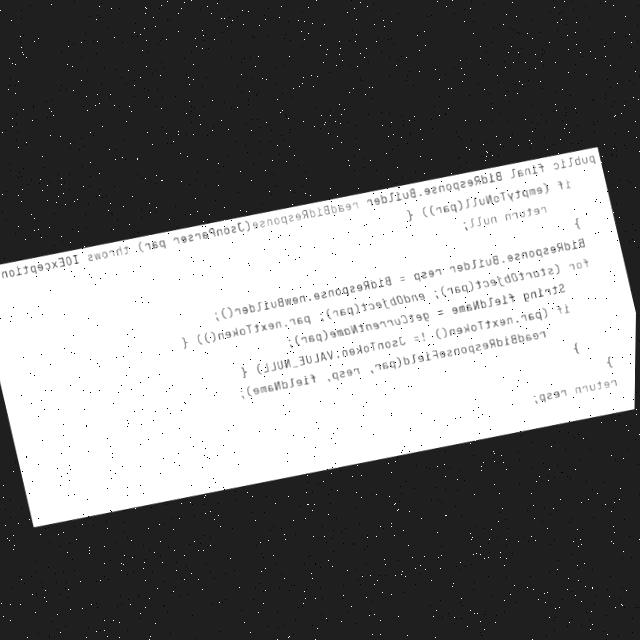code_screen: (0, 148, 636, 525)
